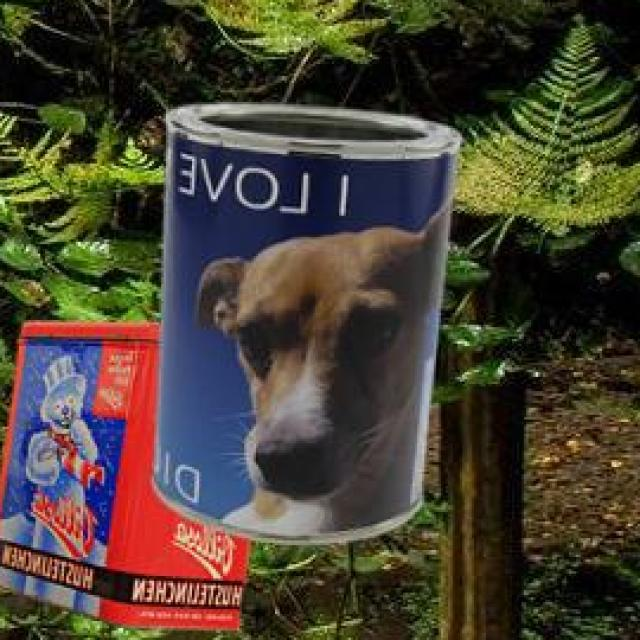logam: (148, 108, 456, 546), (0, 326, 248, 634)
